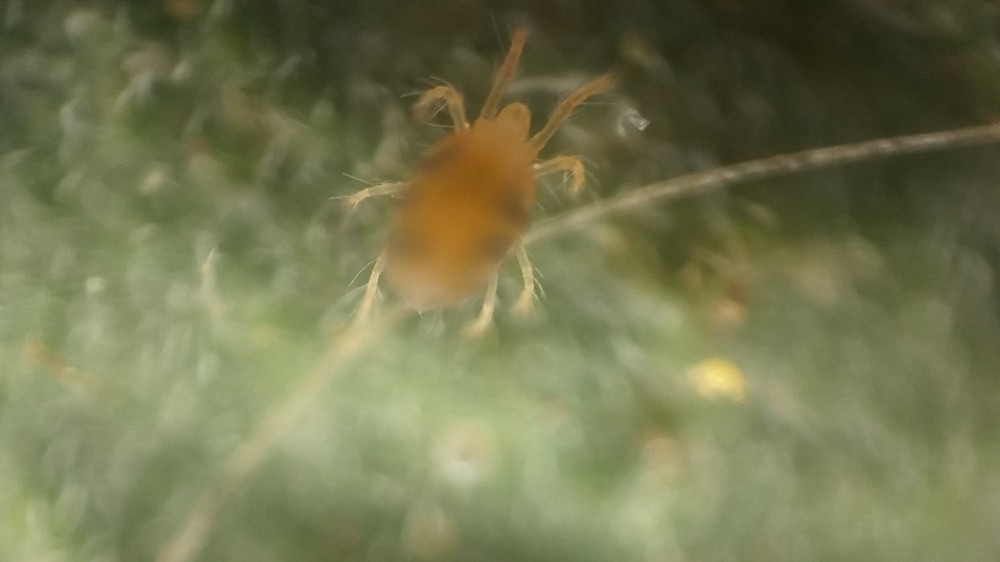Aracnido Rojo: (319, 21, 646, 390)
